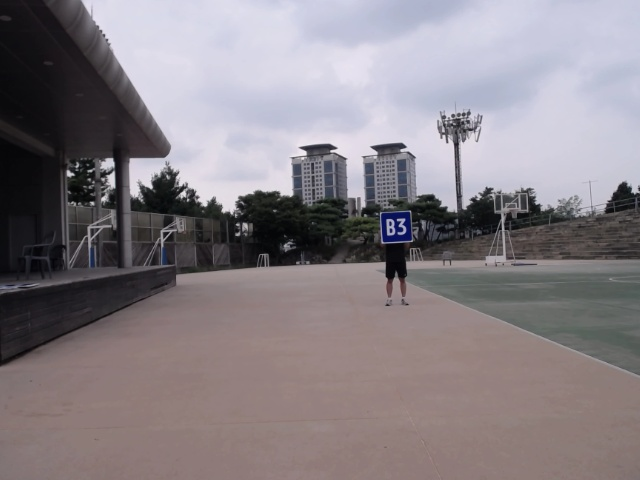delivery_b3: (378, 210, 415, 245)
